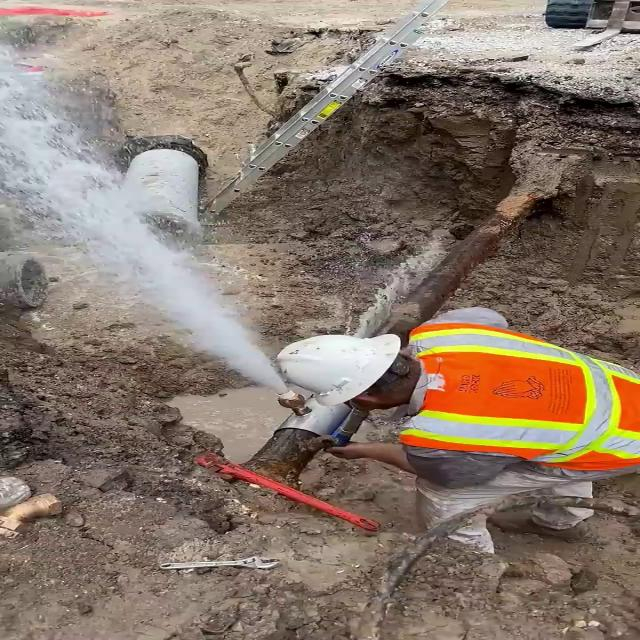leak: (0, 20, 293, 393)
